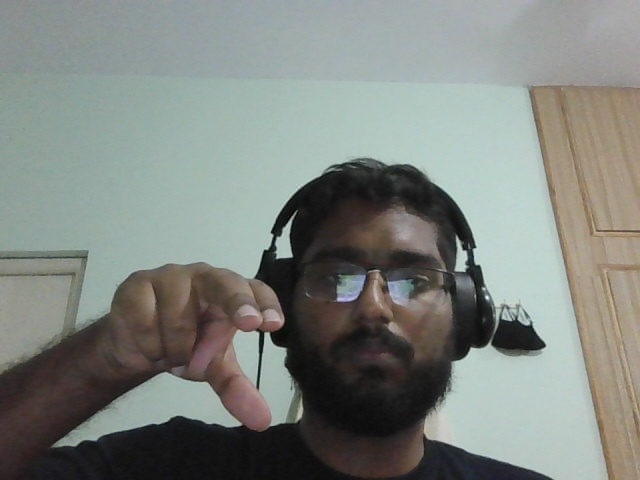No: (89, 236, 303, 445)
